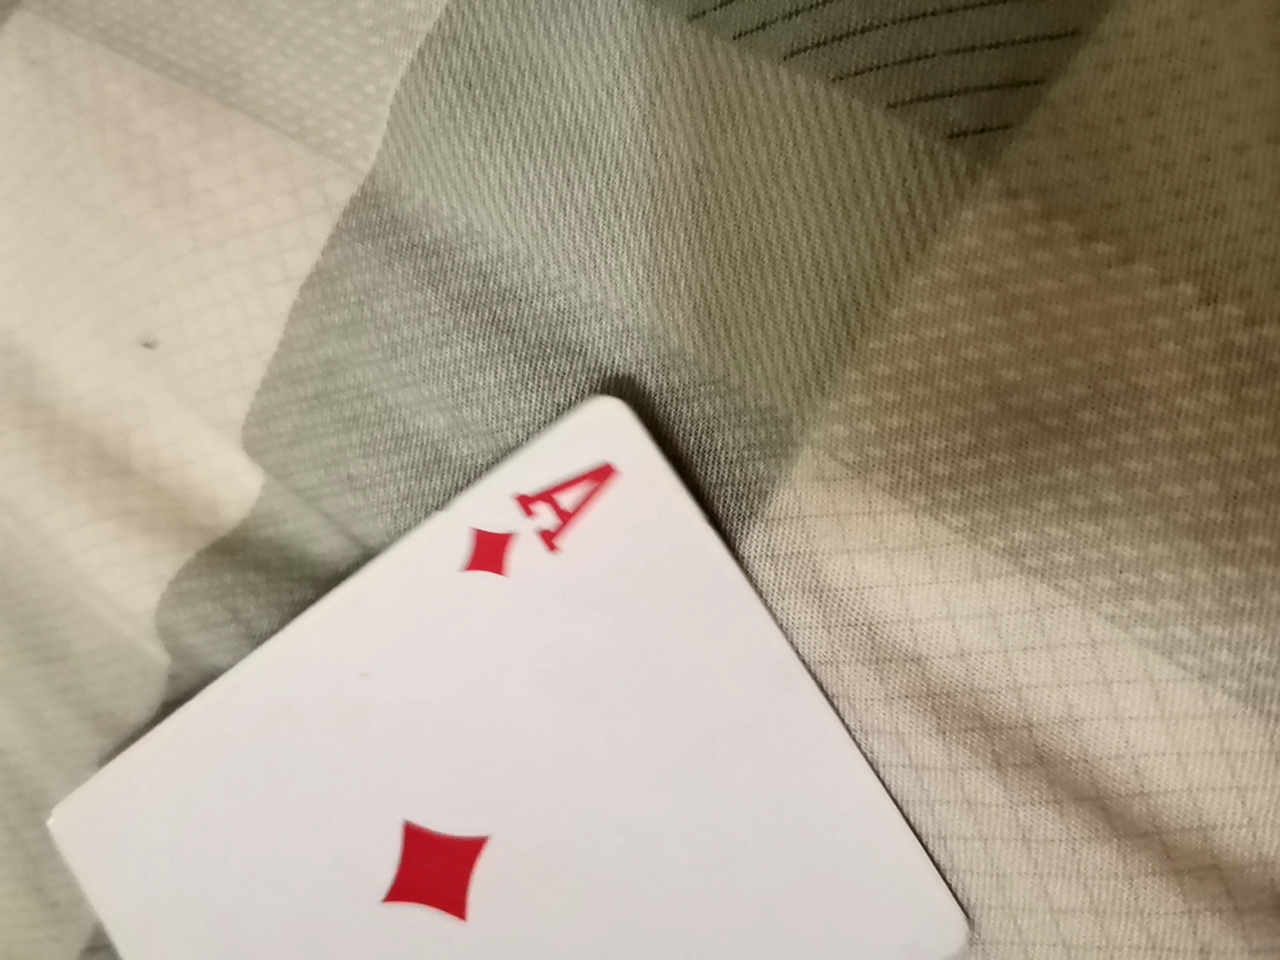fk a: (40, 401, 1048, 958)
